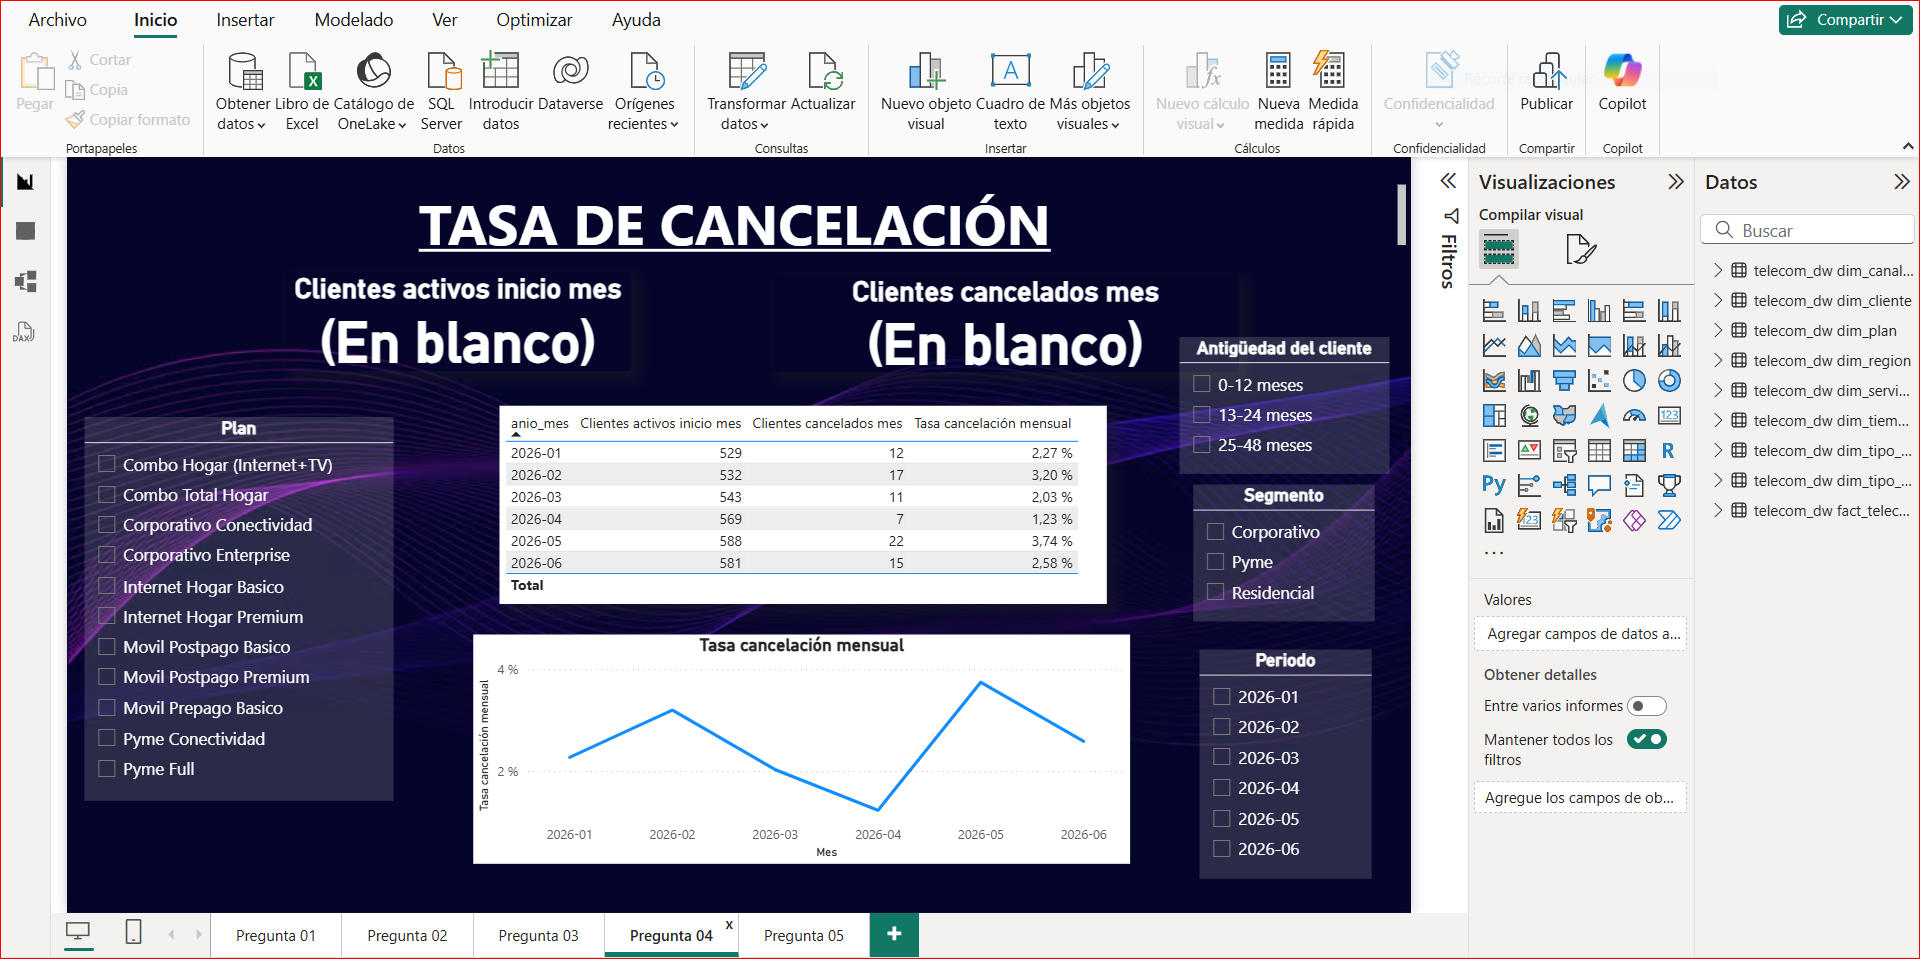

What the dashboard file says about the page in this screenshot:
{"tool":"powerbi","page":{"name":"Pregunta 04","canvas":[1280,720],"ordinal":3},"visuals":[{"type":"card","title":"Clientes activos inicio mes","fields":{"Values":["telecom_dw fact_telecomunicaciones.Clientes activos inicio mes"]},"box":[208.6,110,328.6,94.3],"z":0},{"type":"tableEx","title":"Incidencias y tiempo promedio de resolución por tipo","fields":{"Values":["telecom_dw dim_tiempo.anio_mes","telecom_dw fact_telecomunicaciones.Clientes activos inicio mes","telecom_dw fact_telecomunicaciones.Clientes cancelados mes","telecom_dw fact_telecomunicaciones.Tasa cancelación mensual"]},"box":[411.4,237.1,578.6,188.6],"z":1000},{"type":"slicer","title":"Periodo","fields":{"Values":["telecom_dw dim_tiempo.anio_mes"]},"box":[1078.6,468.6,164.3,218.6],"z":2000},{"type":"slicer","title":"Segmento","fields":{"Values":["telecom_dw dim_cliente.segmento"]},"box":[1072.9,311.4,172.9,130],"z":3000},{"type":"textbox","box":[0,21.2,1280,73.8],"z":4000},{"type":"card","title":"Clientes cancelados mes","fields":{"Values":["telecom_dw fact_telecomunicaciones.Clientes cancelados mes"]},"box":[672.9,111.4,442.9,92.9],"z":5000},{"type":"slicer","title":"Antigüedad del cliente","fields":{"Values":["telecom_dw dim_cliente.rango_antiguedad"]},"box":[1060,171.4,200,130],"z":6000},{"type":"lineChart","title":"Tasa cancelación mensual","fields":{"Category":["telecom_dw dim_tiempo.anio_mes"],"Y":["telecom_dw fact_telecomunicaciones.Tasa cancelación mensual"]},"box":[387.1,454.3,625.7,218.6],"z":7000},{"type":"slicer","title":"Plan","fields":{"Values":["telecom_dw dim_plan.nombre_plan"]},"box":[17.1,247.1,294.3,365.7],"z":8000}]}

Visuals, with their boxes on the page's 1280x720 design canvas (x1, y1, x2, y2). These are canvas units, not pixel positions in the 1920x959 screenshot, which may show the page scaled, cropped or inside an application window:
"Clientes activos inicio mes" card: l=209, t=110, r=537, b=204
"Incidencias y tiempo promedio de resolución por tipo" tableEx: l=411, t=237, r=990, b=426
"Periodo" slicer: l=1079, t=469, r=1243, b=687
"Segmento" slicer: l=1073, t=311, r=1246, b=441
textbox: l=0, t=21, r=1280, b=95
"Clientes cancelados mes" card: l=673, t=111, r=1116, b=204
"Antigüedad del cliente" slicer: l=1060, t=171, r=1260, b=301
"Tasa cancelación mensual" lineChart: l=387, t=454, r=1013, b=673
"Plan" slicer: l=17, t=247, r=311, b=613
